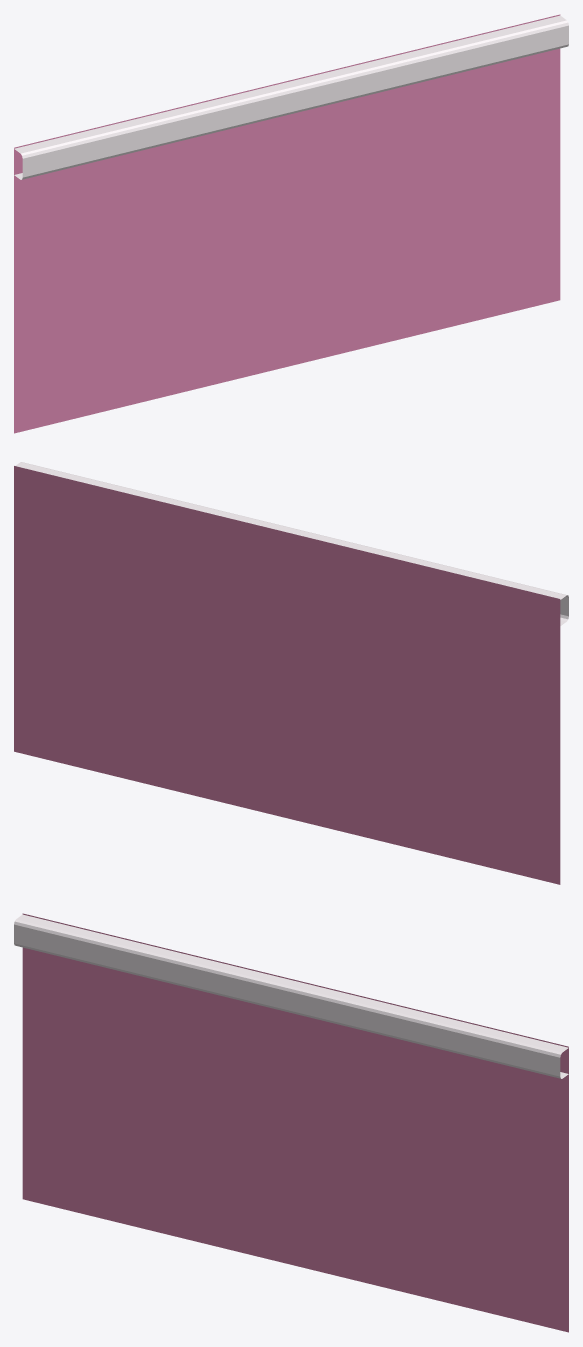
File: SM_House_Base_100CM3.fbx
3 views of the same model, one above another, from view 1: azimuth 30°, elevation 25°; view 2: azimuth 150°, elevation 25°; view 3: azimuth 330°, elevation 25° (orthographic).
Visible parts, largest first — view 1: SM_House_Base_100CM3; view 2: SM_House_Base_100CM3; view 3: SM_House_Base_100CM3.
Part boxes in pixels (x1=…): SM_House_Base_100CM3: x1=14, y1=14, x2=568, y2=433; SM_House_Base_100CM3: x1=14, y1=462, x2=568, y2=884; SM_House_Base_100CM3: x1=14, y1=913, x2=568, y2=1332.
Size of the model in its own units: 100 by 2.74 by 50.
